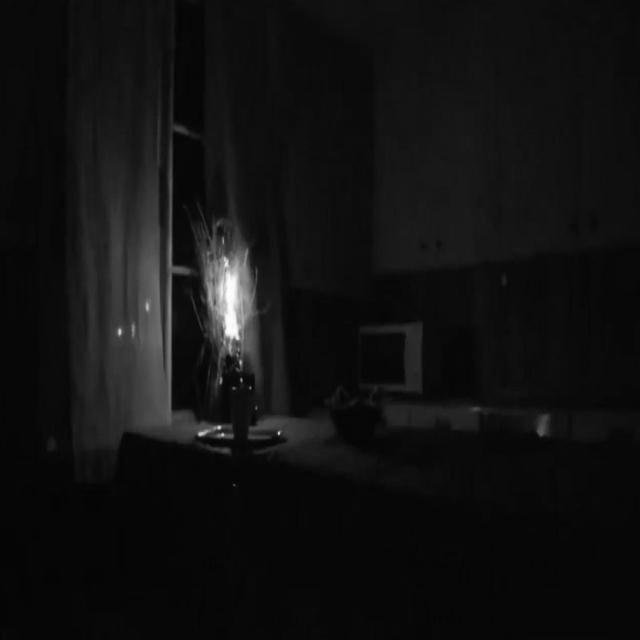smoke: (215, 254, 252, 349)
